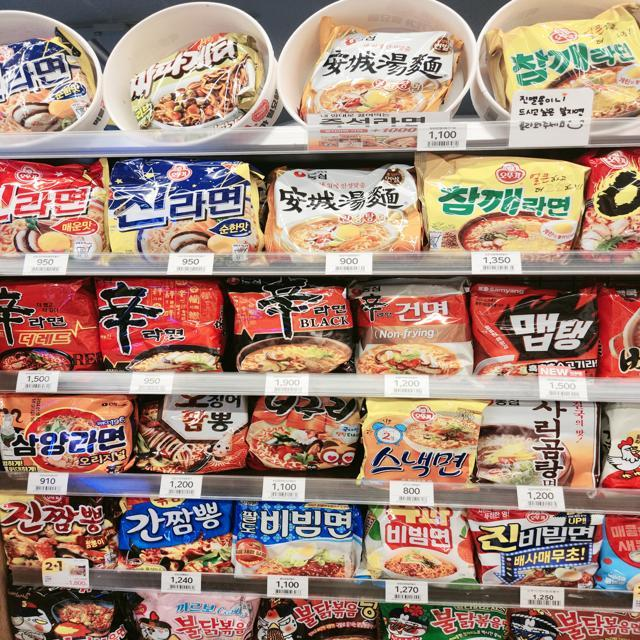product: (402, 143, 583, 269), (460, 271, 609, 402), (256, 151, 431, 262), (212, 269, 357, 395), (306, 18, 457, 138), (93, 270, 238, 389), (340, 273, 483, 392), (109, 164, 267, 264), (490, 22, 640, 127), (460, 500, 600, 599), (357, 399, 487, 498), (479, 392, 597, 501), (234, 485, 361, 585), (118, 42, 267, 125), (361, 493, 484, 593), (112, 489, 236, 585), (3, 395, 134, 485), (4, 495, 120, 577)
